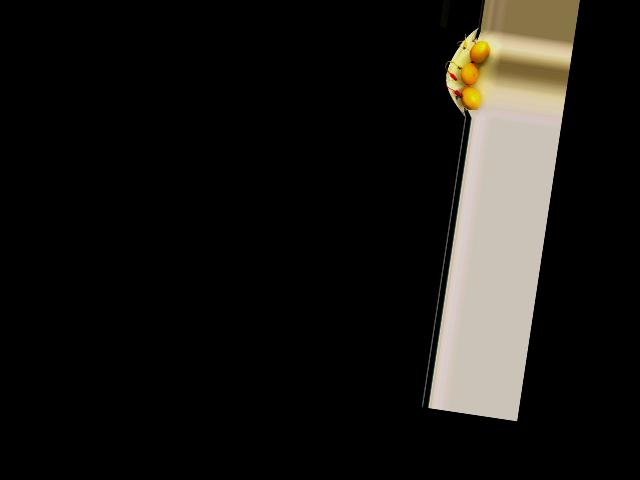lemon: (455, 85, 480, 110)
